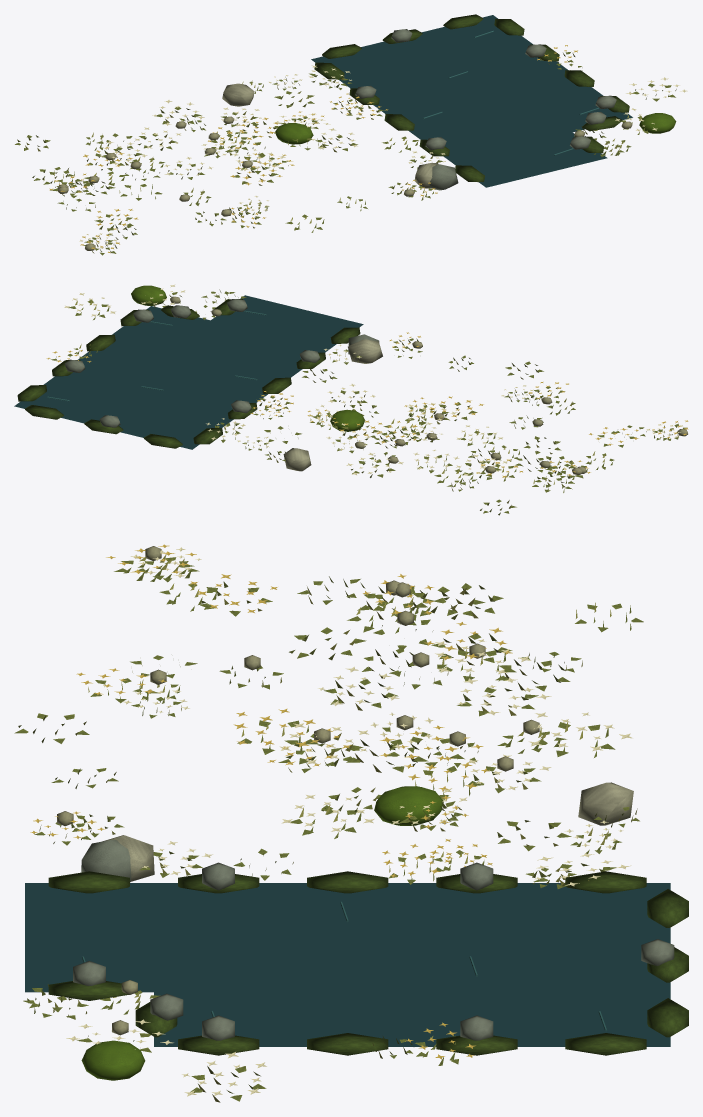
File: detail-patch-02-00.fbx
3 renders of one model, top to bottom at view 1: azimuth 30°, elevation 25°; view 2: azimuth 150°, elevation 25°; view 3: azimuth 270°, elevation 25°, orthographic. The views are drawn at different scales.
Visible parts, largest first — view 1: detail-patch-02-00__Water, detail-patch-02-00__Geometry; view 2: detail-patch-02-00__Water, detail-patch-02-00__Geometry; view 3: detail-patch-02-00__Water, detail-patch-02-00__Geometry.
Part boxes in pixels (x1,y1,x2,y2): detail-patch-02-00__Water: [311, 15, 632, 187]; detail-patch-02-00__Geometry: [15, 14, 687, 255]; detail-patch-02-00__Water: [14, 295, 363, 449]; detail-patch-02-00__Geometry: [17, 284, 688, 515]; detail-patch-02-00__Water: [25, 883, 670, 1046]; detail-patch-02-00__Geometry: [14, 544, 688, 1102].
Size of the model in its own units: 10.12 by 0.4122 by 5.23.
